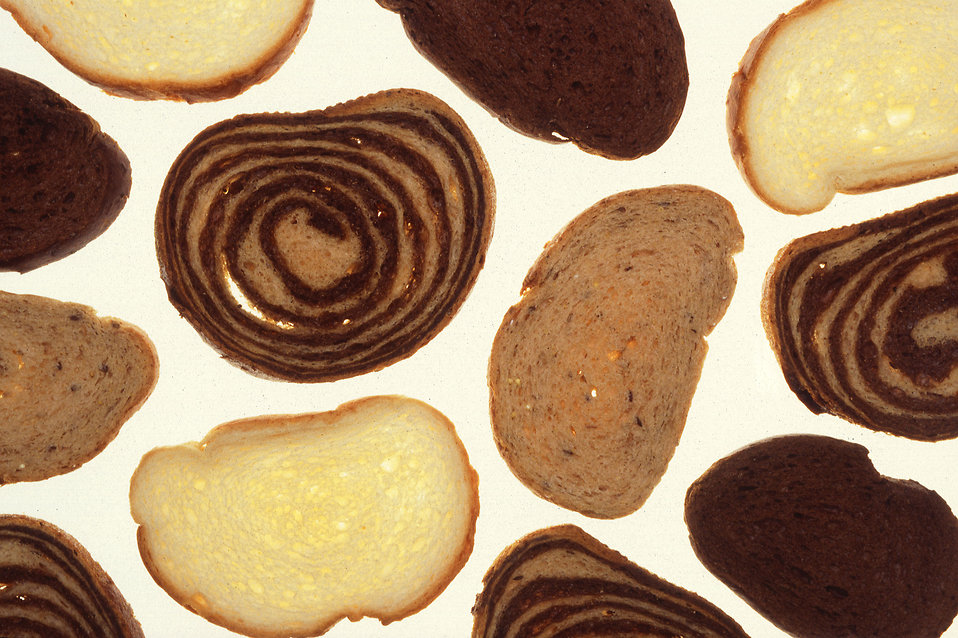slice of bread: (110, 426, 490, 630), (500, 140, 698, 509)
